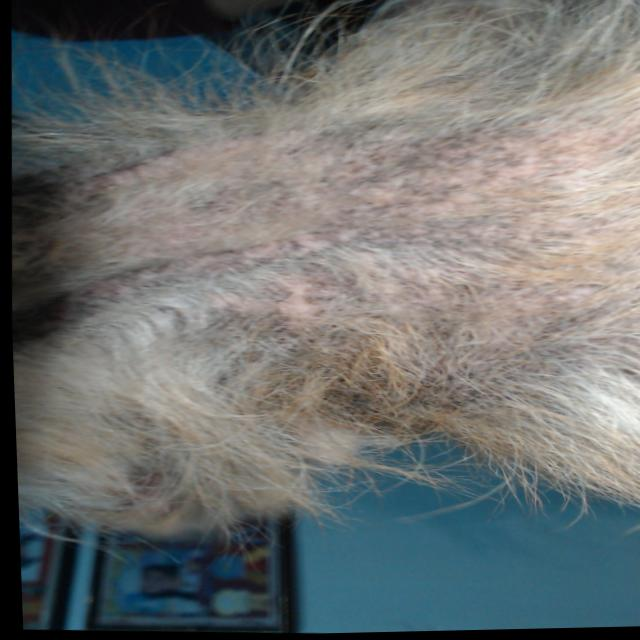demodicosis: (109, 147, 551, 370)
